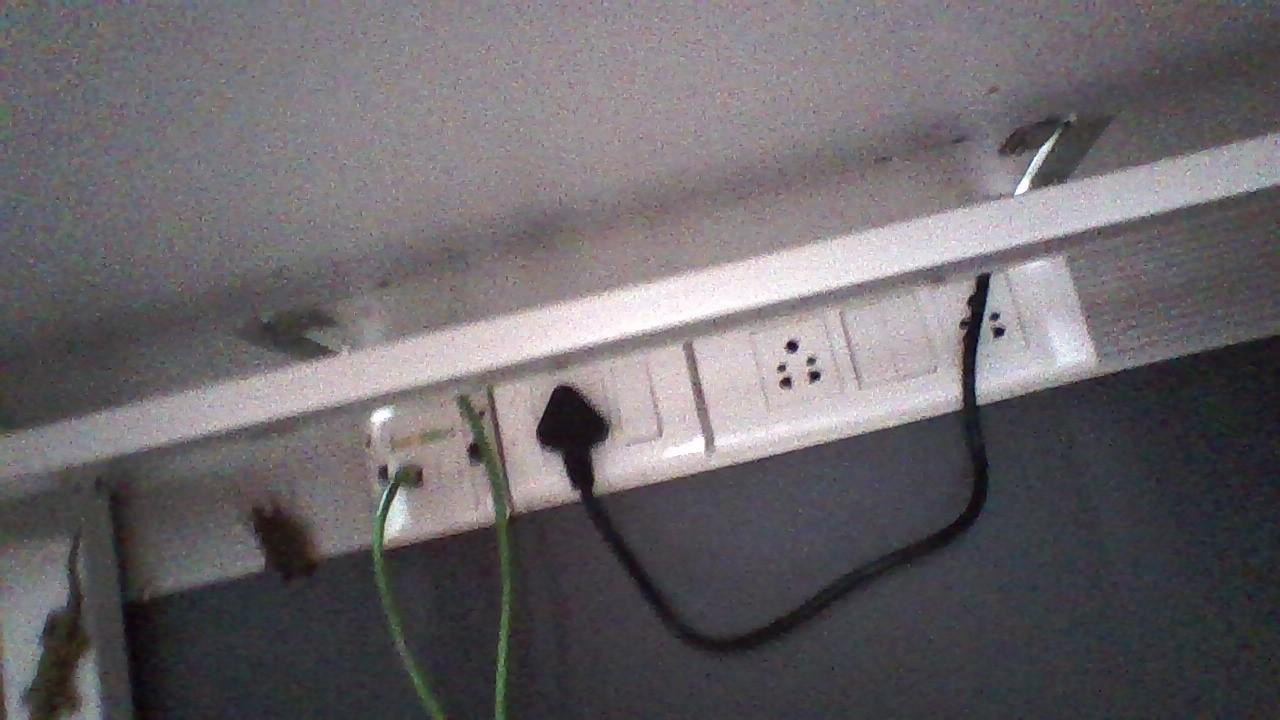cockroach: (205, 477, 318, 588)
lizard: (22, 509, 93, 720)
